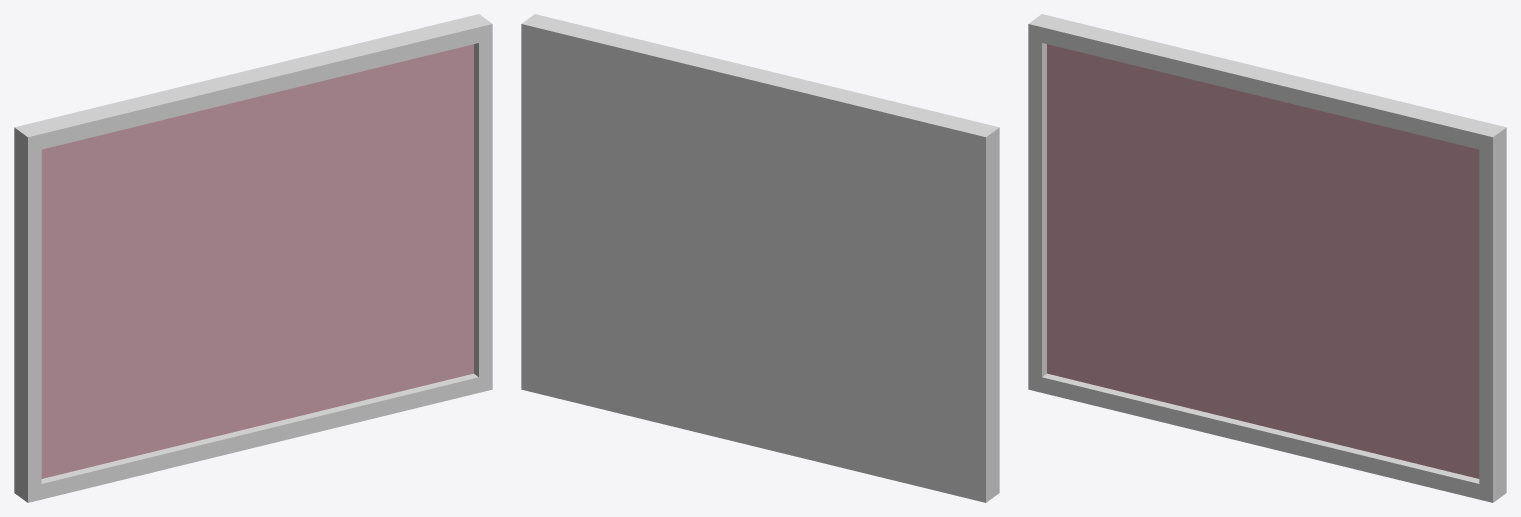
Rendered from wall_art.glb.
The picture shows the model from 3 angles, left to right: view 1: azimuth 30°, elevation 25°; view 2: azimuth 150°, elevation 25°; view 3: azimuth 330°, elevation 25°; orthographic projection.
Visible parts, largest first — view 1: Picture_02; view 2: Picture_02; view 3: Picture_02.
Boxes of the visible parts, x1,y1,x2,y2 form: Picture_02: (14,14,492,502); Picture_02: (521,14,999,502); Picture_02: (1028,14,1506,502).
Bounding box in the file's own units: 0.8516 × 0.6404 × 0.0431.
Materials: 1 (1 with a texture image).
